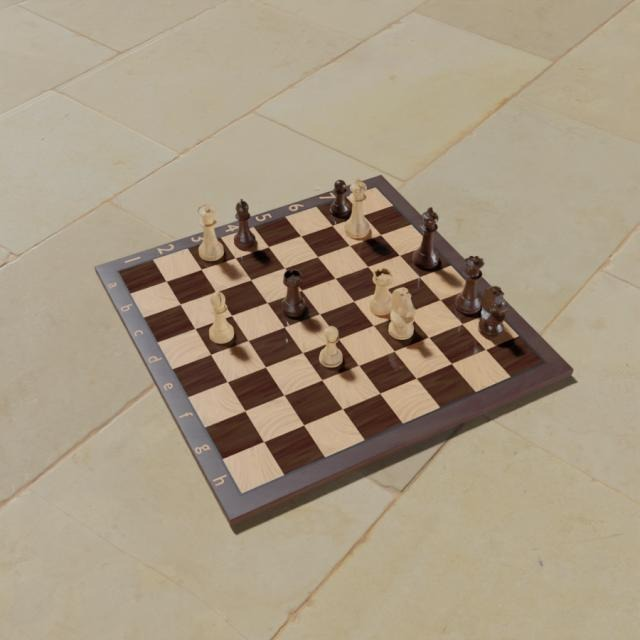black-bishop: (233, 197, 258, 249)
black-king: (411, 206, 440, 270)
black-knight: (477, 285, 508, 339)
black-pawn: (329, 179, 349, 218)
black-queen: (453, 256, 485, 317)
black-rook: (279, 268, 308, 320)
white-bishop: (208, 290, 235, 344)
white-king: (343, 177, 370, 239)
white-knight: (388, 286, 416, 341)
white-pawn: (319, 325, 343, 369)
white-queen: (197, 202, 225, 261)
white-rook: (368, 267, 395, 316)
